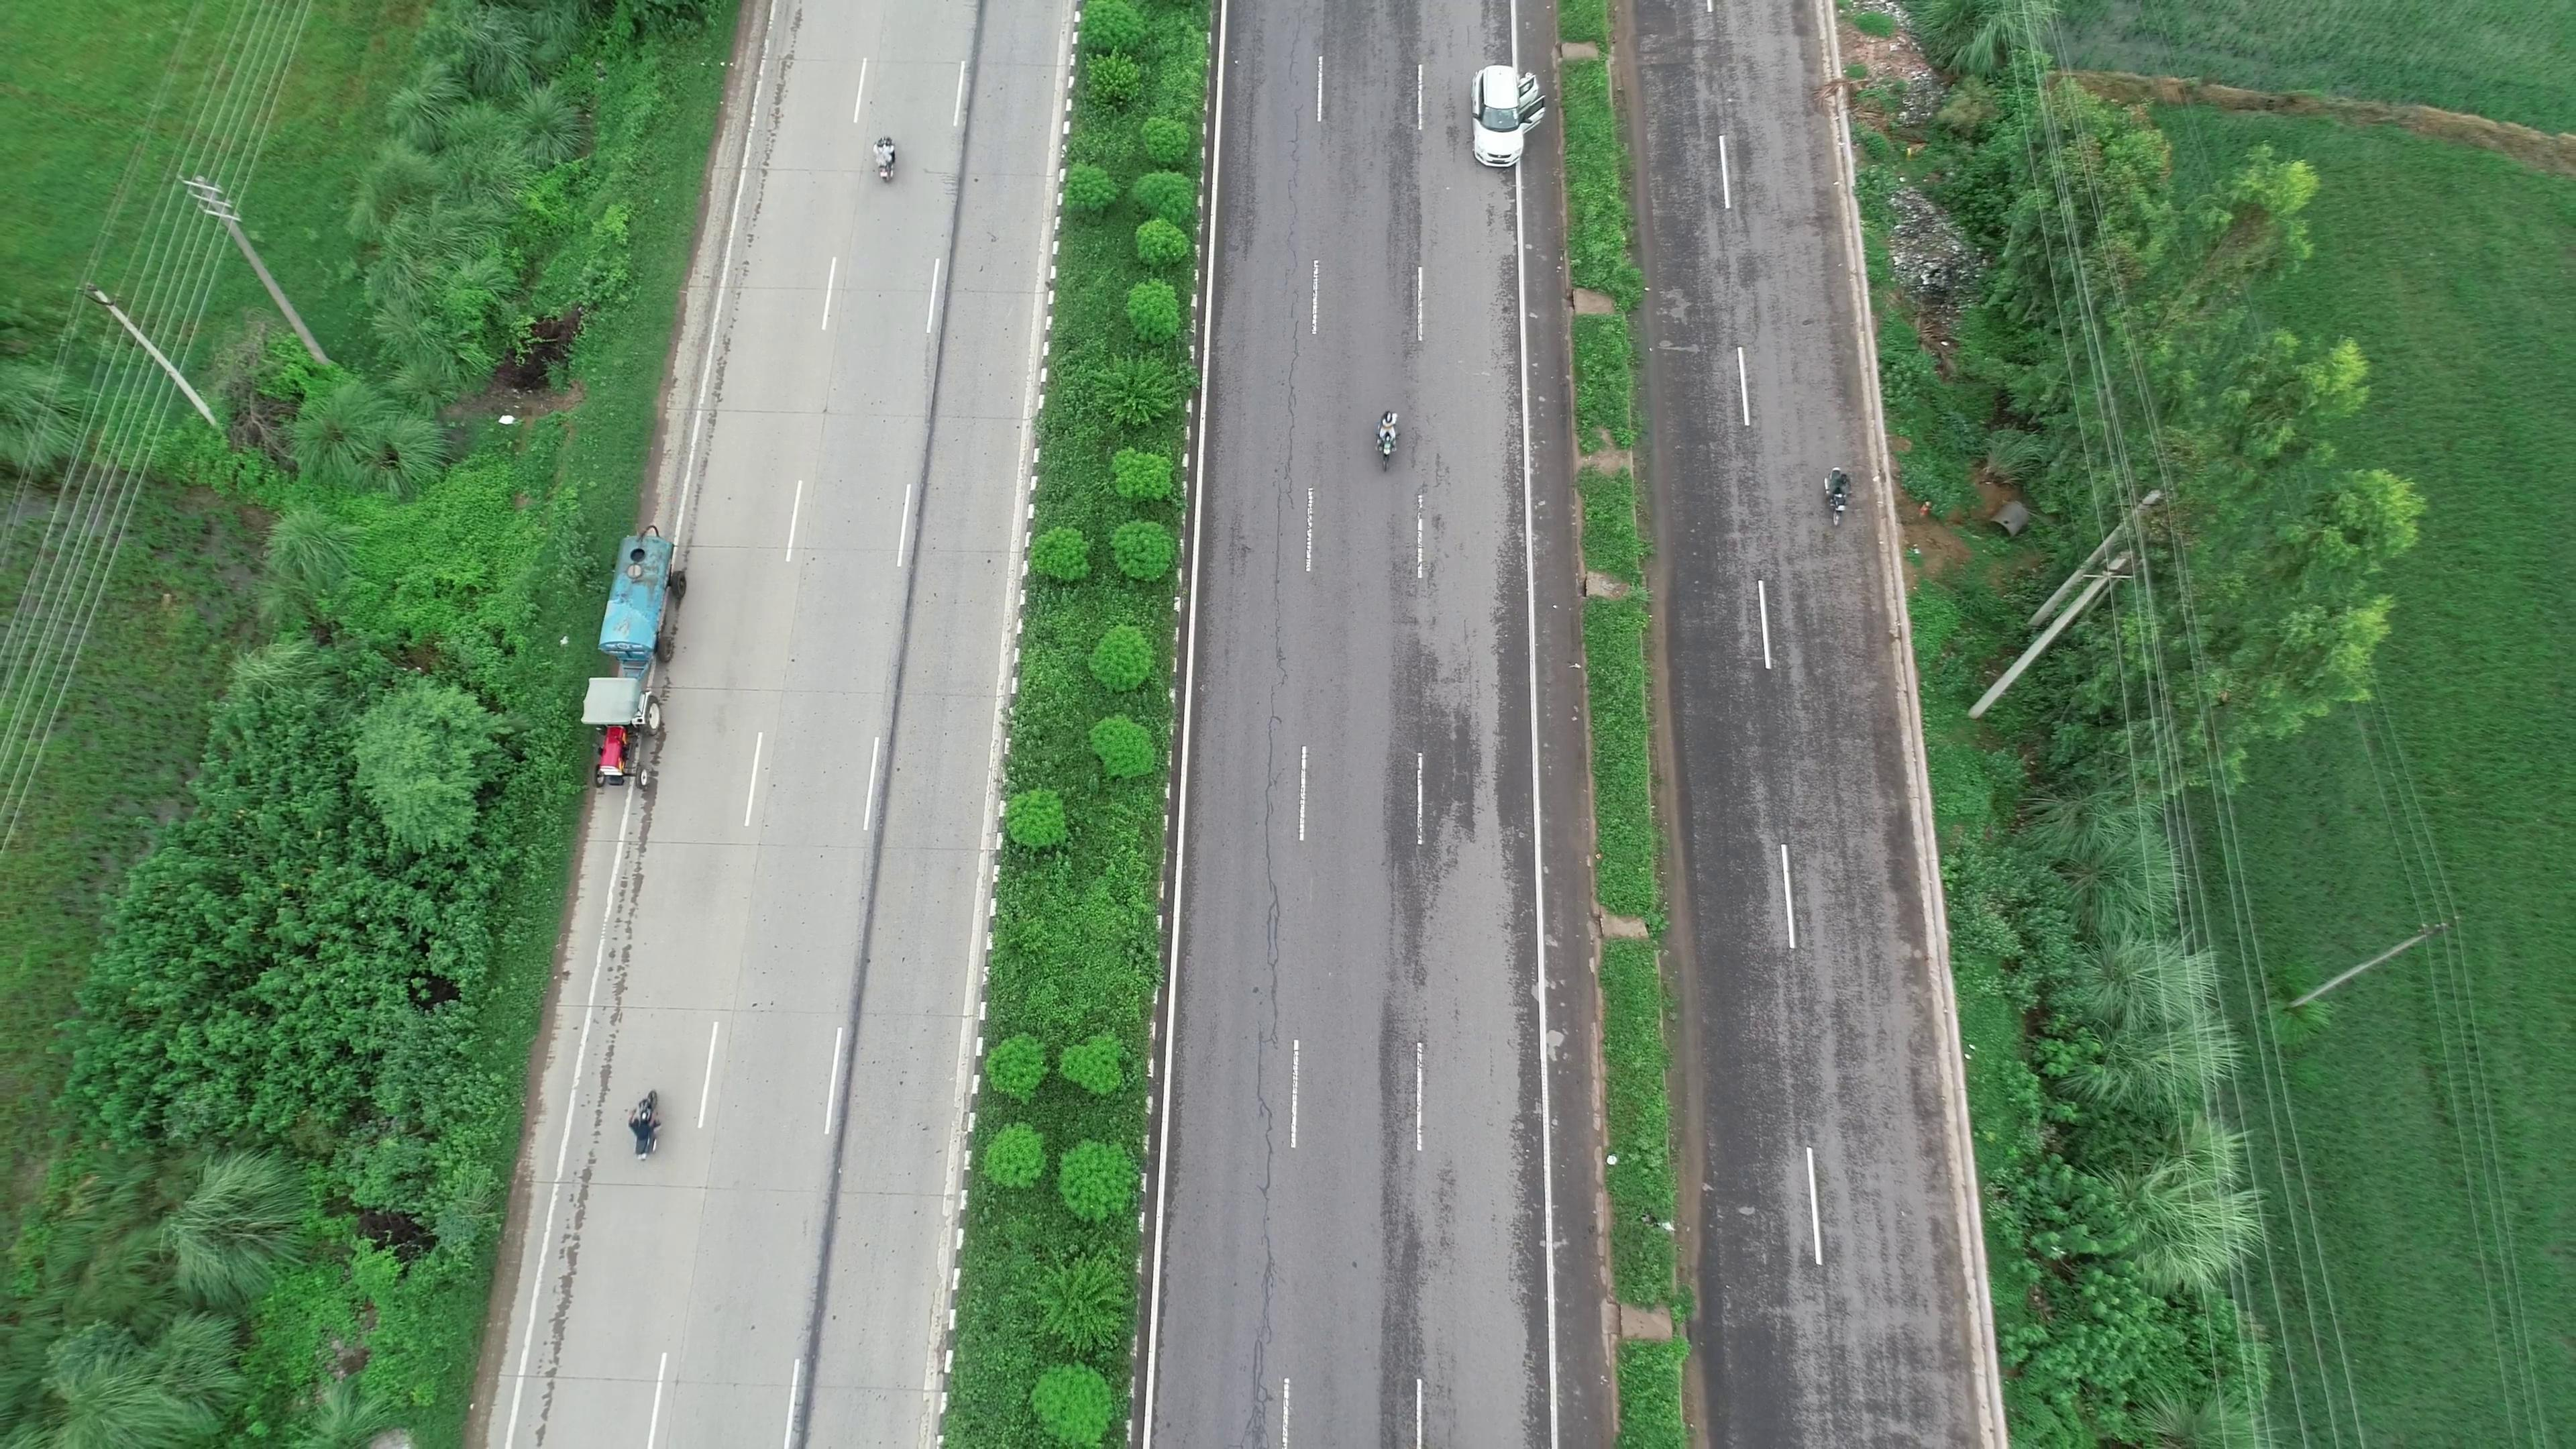Longitudinal_cracks: (1223, 694, 1307, 1424), (1251, 41, 1318, 676)
